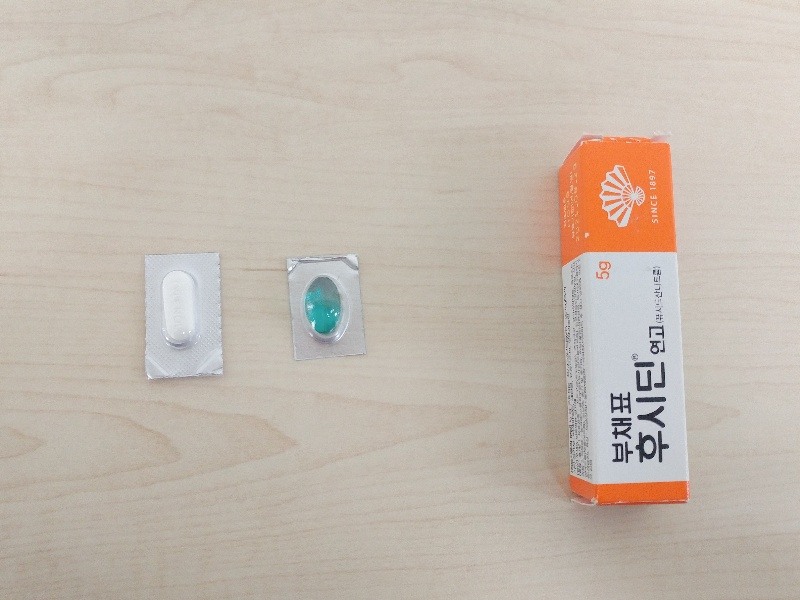fucidin: (559, 134, 690, 507)
pill_ezn: (287, 255, 365, 362)
pill_tylenol: (143, 253, 221, 380)
